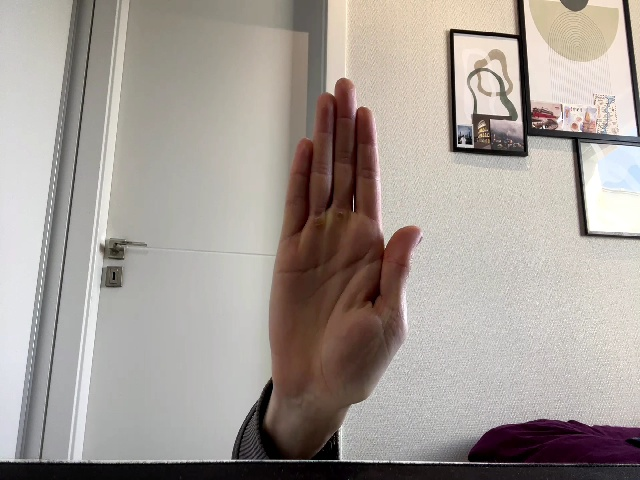B: (269, 78, 422, 414)
